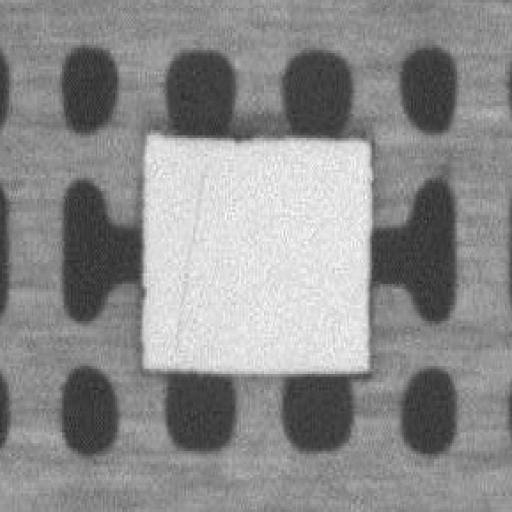DIE_CRACK: (166, 152, 212, 364)
